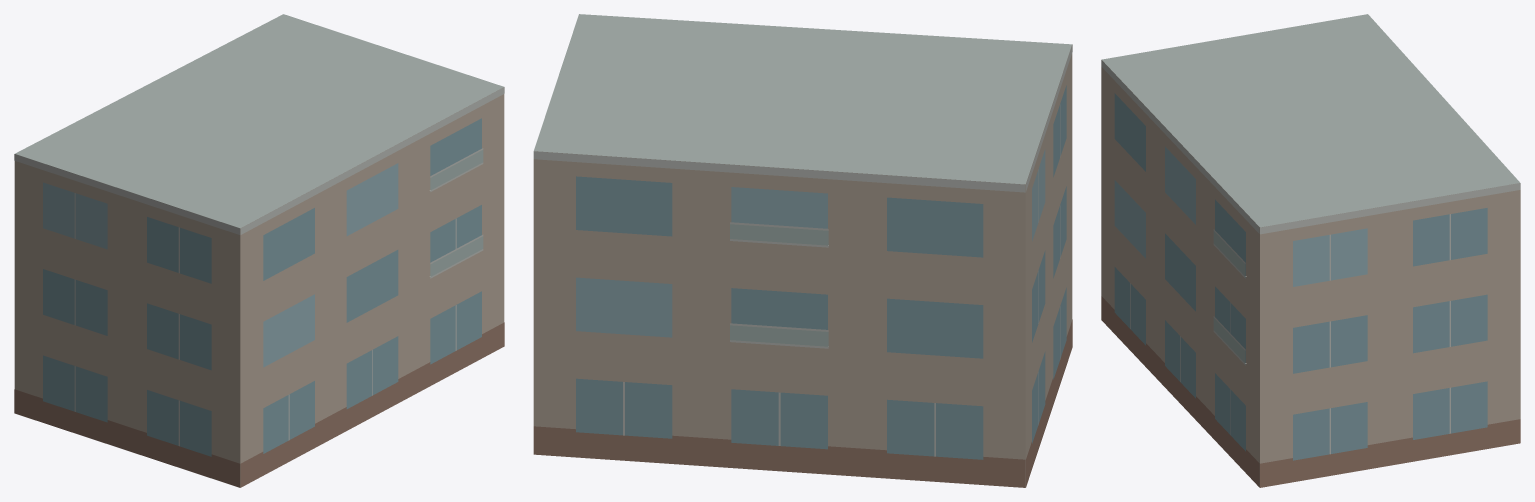
Rendered from survey-upis-32697646.glb.
3 renders of one model, left to right at view 1: azimuth 30°, elevation 25°; view 2: azimuth 150°, elevation 25°; view 3: azimuth 270°, elevation 25°, orthographic. The views are drawn at different scales.
Visible parts, largest first — view 1: survey-upis-32697646.tmp; view 2: survey-upis-32697646.tmp; view 3: survey-upis-32697646.tmp.
Part boxes in pixels (bbox=[...]): survey-upis-32697646.tmp: bbox=[14, 14, 504, 487]; survey-upis-32697646.tmp: bbox=[533, 14, 1072, 487]; survey-upis-32697646.tmp: bbox=[1101, 14, 1520, 487].
Bounding box in the file's own units: 16.1 × 9.15 × 13.36.
